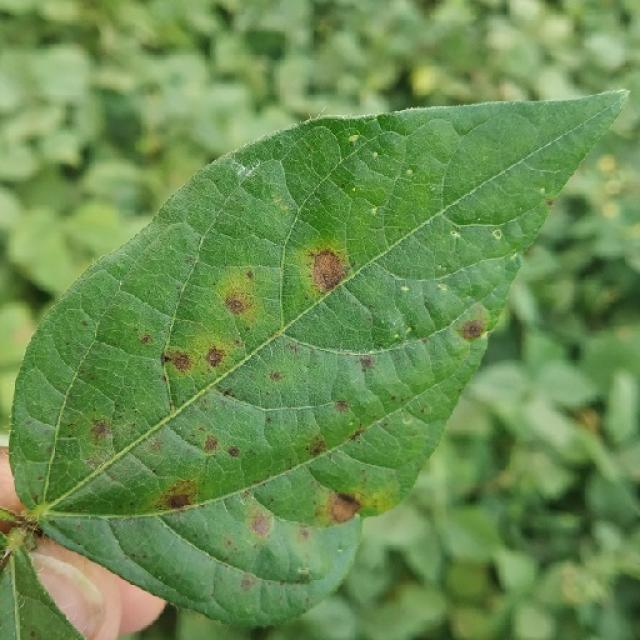Anthracnose: (308, 248, 350, 295), (154, 477, 200, 511), (5, 512, 44, 547), (242, 501, 274, 538), (328, 492, 362, 523), (163, 348, 194, 373), (224, 292, 251, 315), (460, 319, 485, 341), (205, 348, 224, 368), (308, 437, 327, 457), (91, 421, 109, 439), (240, 574, 257, 591), (203, 435, 219, 453), (359, 354, 376, 370), (348, 425, 364, 441), (147, 437, 164, 452), (334, 400, 349, 413), (298, 527, 311, 541), (286, 341, 301, 353), (227, 445, 240, 458), (269, 371, 283, 382), (297, 566, 311, 577), (139, 334, 152, 345), (491, 229, 502, 240), (223, 388, 235, 398), (161, 353, 170, 365), (245, 270, 254, 279), (545, 198, 554, 207), (32, 495, 40, 505), (81, 320, 89, 328), (451, 230, 459, 238), (406, 169, 413, 176), (29, 636, 37, 640)
Blackgram: (9, 90, 626, 625)
